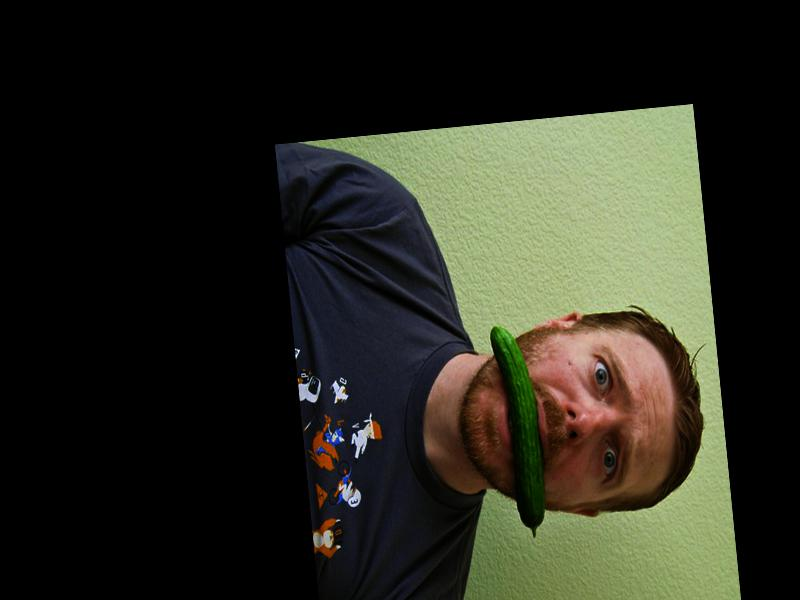Cucumber: (488, 321, 549, 540)
